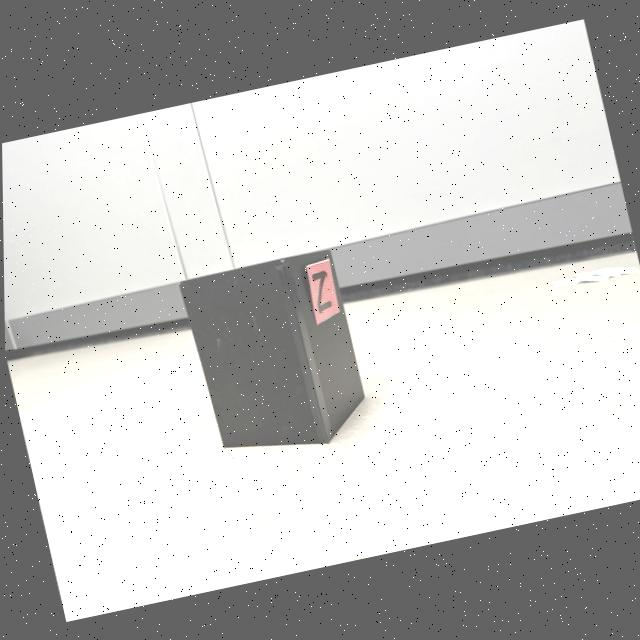Z: (312, 271, 331, 312)
